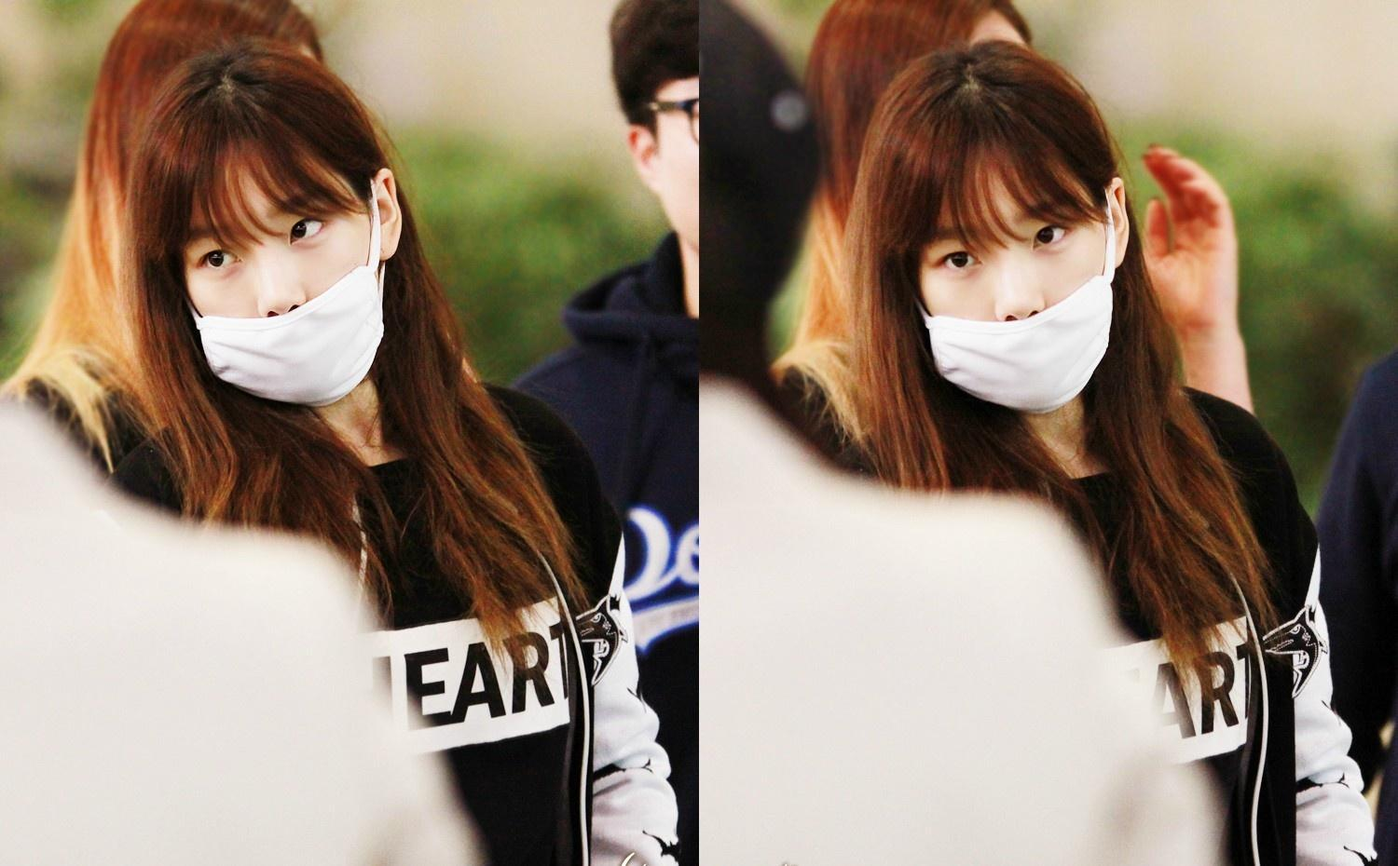WRONG: (173, 188, 386, 400), (909, 195, 1107, 403)
